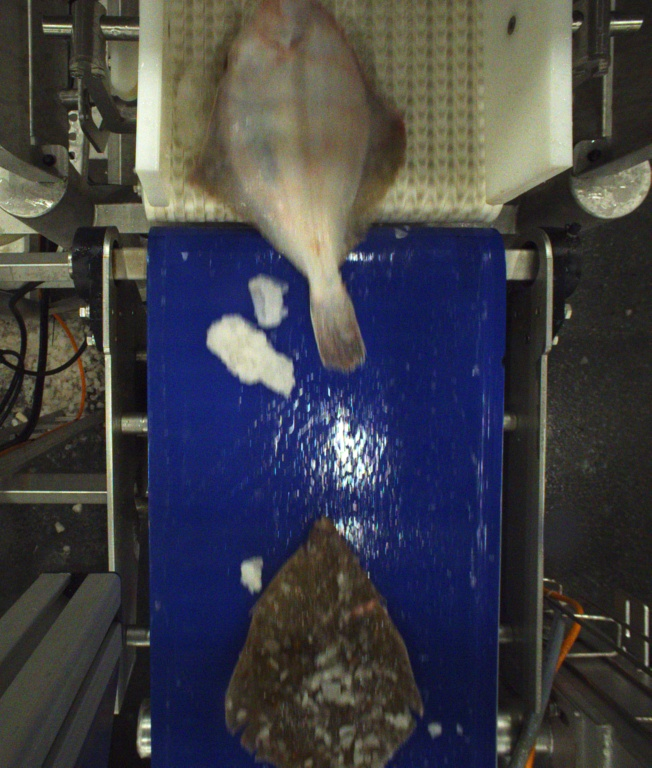PLE: (188, 0, 406, 370)
